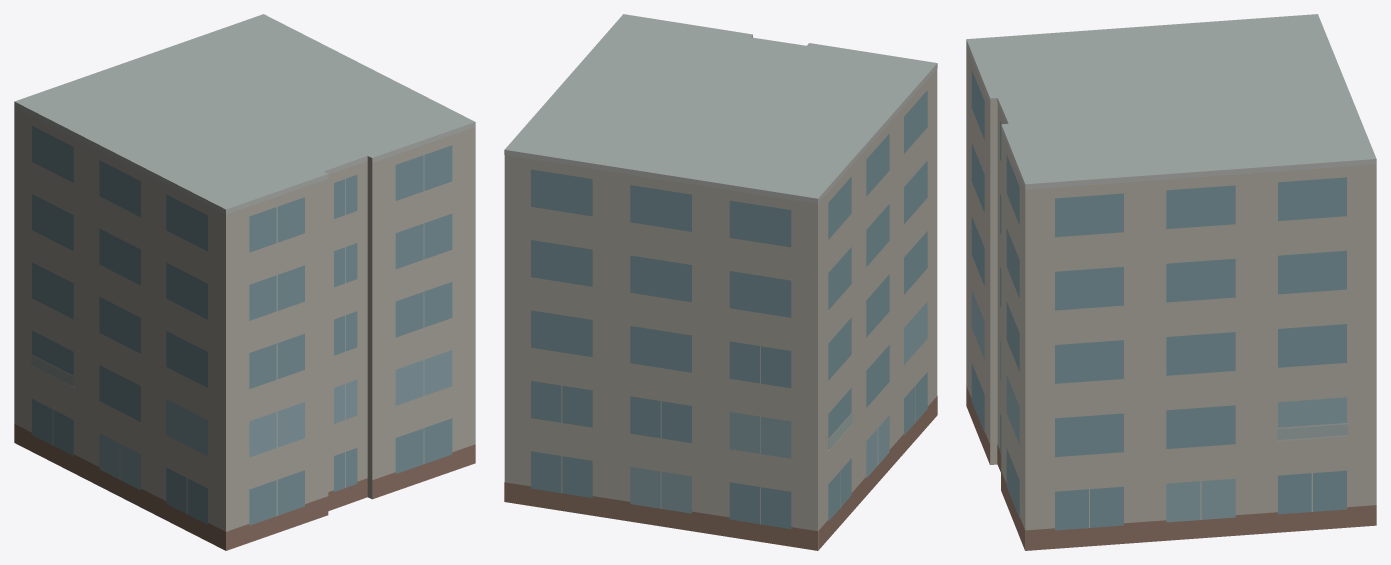
The model's file is survey-upis-32701638.glb.
3 renders of one model, left to right at view 1: azimuth 30°, elevation 25°; view 2: azimuth 150°, elevation 25°; view 3: azimuth 270°, elevation 25°, orthographic. The views are drawn at different scales.
Visible parts, largest first — view 1: survey-upis-32701638.tmp; view 2: survey-upis-32701638.tmp; view 3: survey-upis-32701638.tmp.
Part boxes in pixels (x1=…): survey-upis-32701638.tmp: x1=14, y1=14, x2=475, y2=550; survey-upis-32701638.tmp: x1=504, y1=14, x2=937, y2=550; survey-upis-32701638.tmp: x1=966, y1=14, x2=1376, y2=550.
Size of the model in its own units: 16.35 by 16.4 by 16.65.
